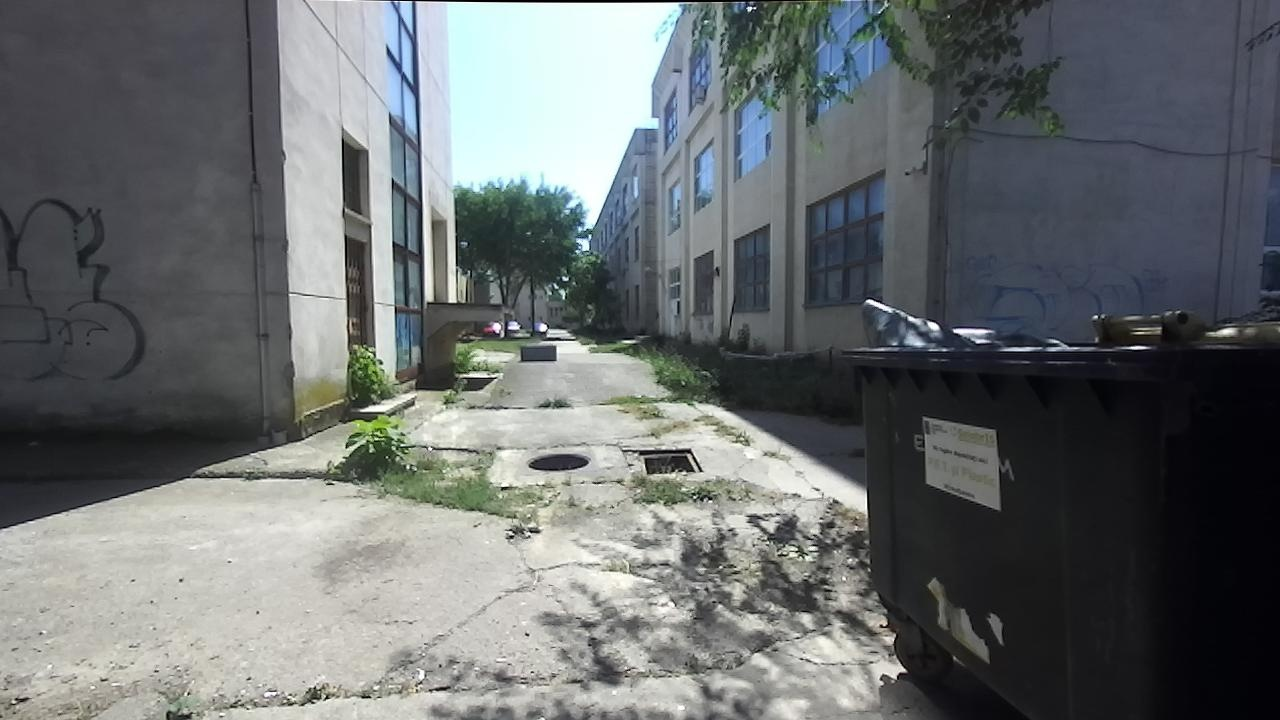drain: (638, 446, 712, 480), (524, 448, 596, 473)
